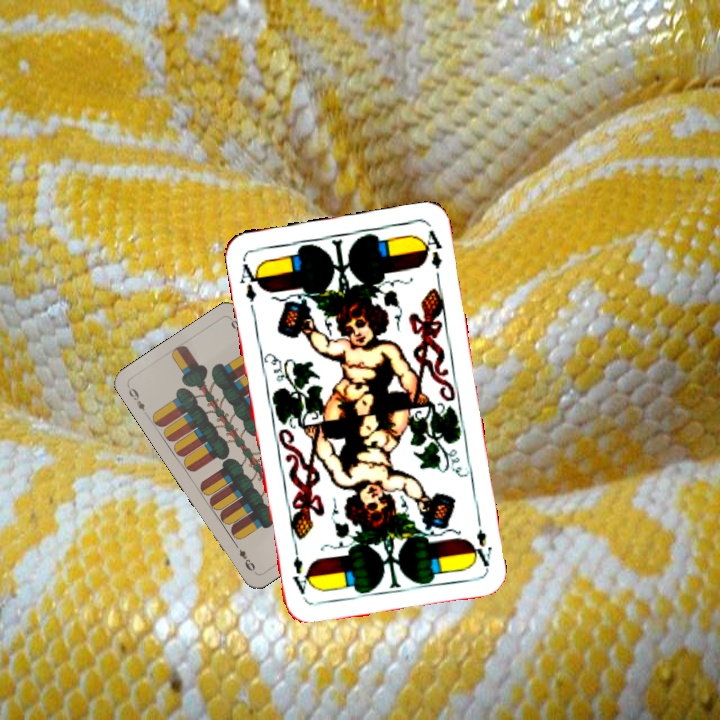E9: (124, 384, 151, 419)
EA: (466, 512, 495, 571), (235, 259, 264, 305)
